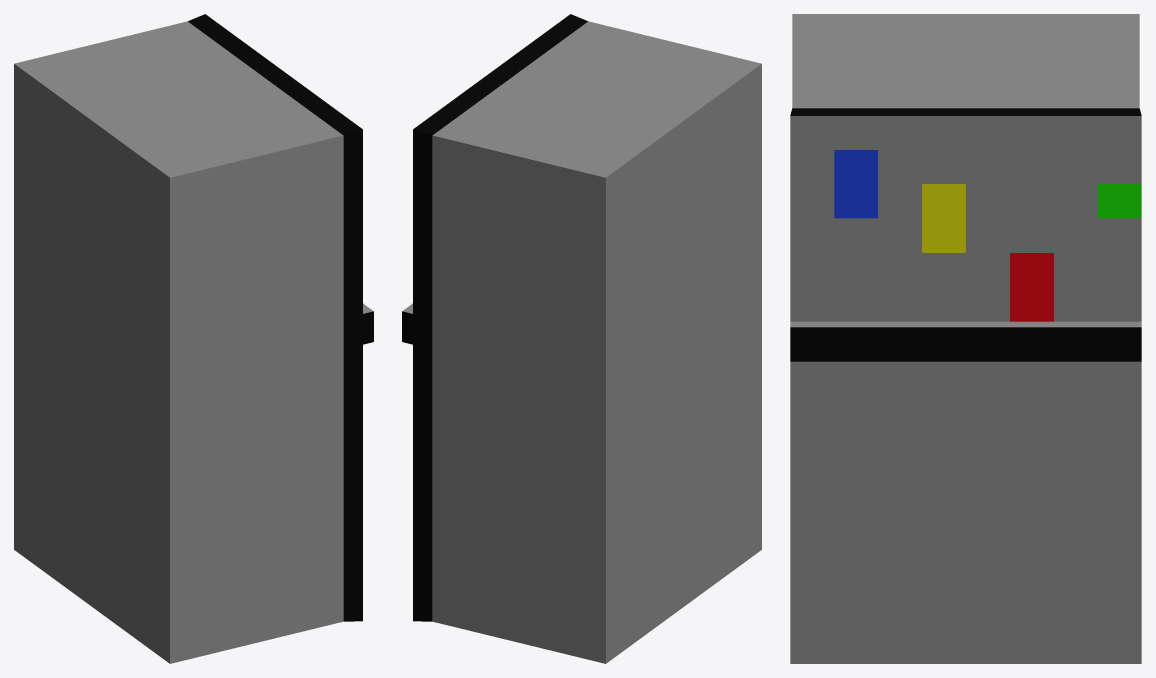
The model's file is Kulkas.fbx.
3 views of the same model, side by side, from view 1: azimuth 30°, elevation 25°; view 2: azimuth 150°, elevation 25°; view 3: azimuth 270°, elevation 25° (orthographic). The views are drawn at different scales.
Visible parts, largest first — view 1: Cube; view 2: Cube; view 3: Cube.
Boxes of the visible parts, x1=… form: Cube: x1=14, y1=14, x2=373, y2=663; Cube: x1=402, y1=14, x2=761, y2=663; Cube: x1=790, y1=14, x2=1141, y2=663.
Size of the model in its own units: 118 by 273 by 159.
